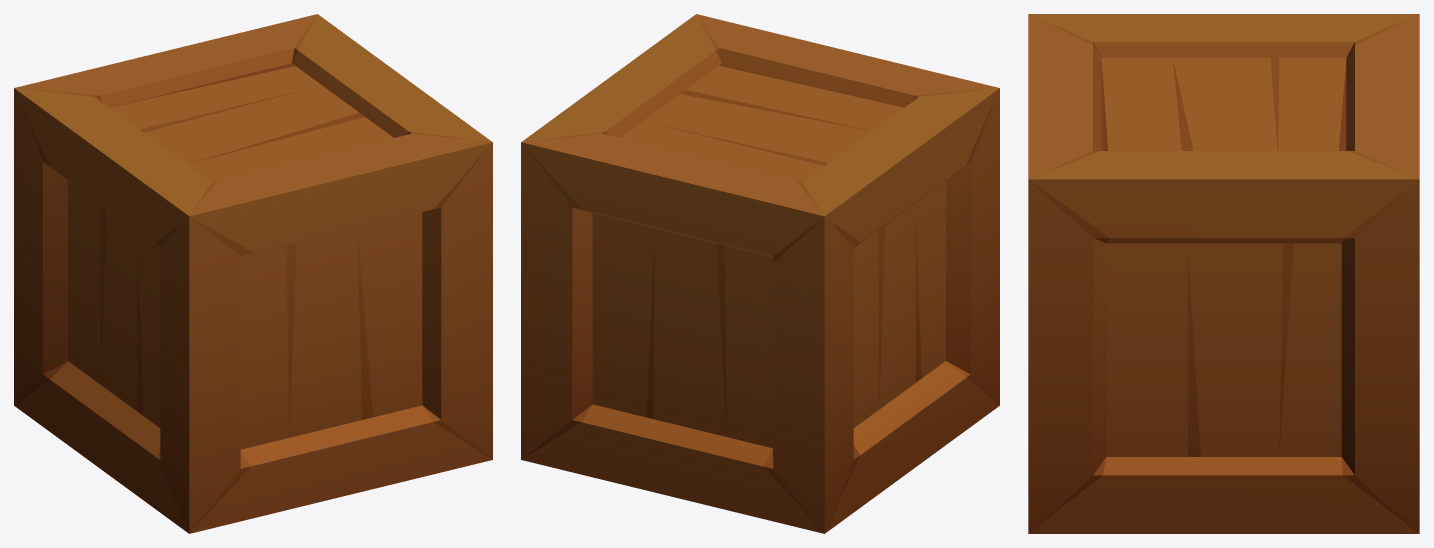
3 renders of one model, left to right at view 1: azimuth 30°, elevation 25°; view 2: azimuth 150°, elevation 25°; view 3: azimuth 270°, elevation 25°, orthographic. The views are drawn at different scales.
Visible parts, largest first — view 1: box_1; view 2: box_1; view 3: box_1.
Boxes of the visible parts, <box> form: box_1: <box>14,14,492,533</box>; box_1: <box>521,14,999,533</box>; box_1: <box>1028,14,1419,533</box>.
Size of the model in its own units: 0.5734 by 0.5734 by 0.5734.
1 material, 1 textured.
